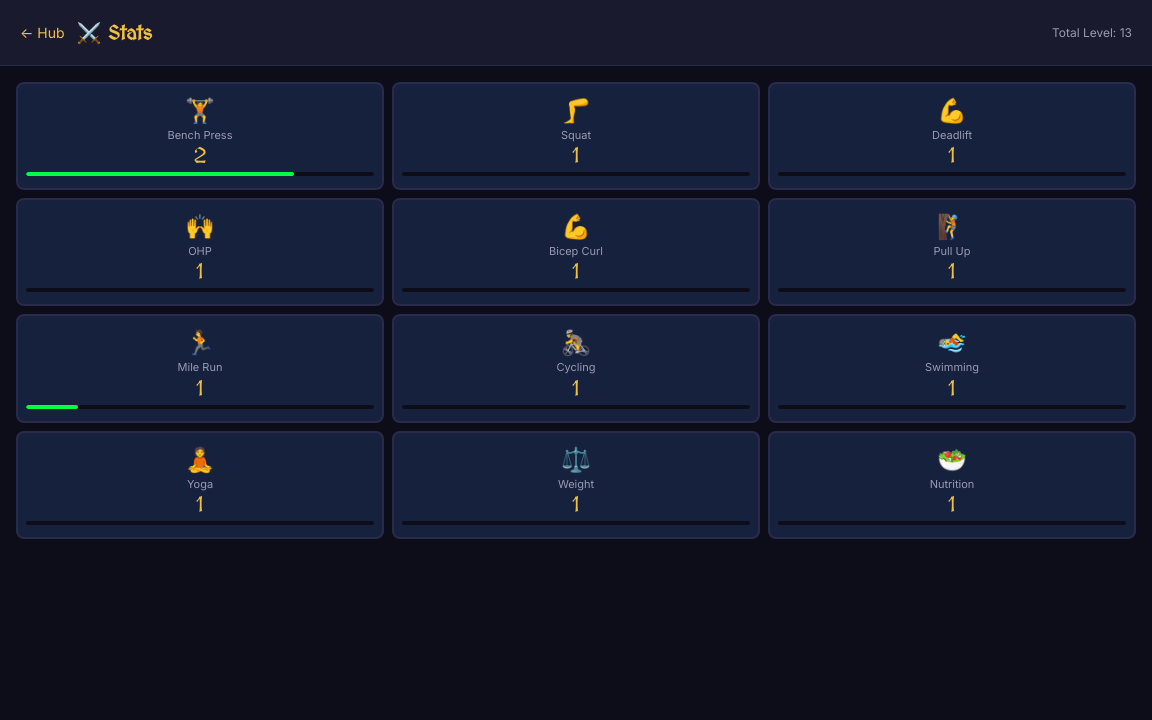
Test: StatsScreen › floors float XP in the detail panel
Click the button with aria-label "Mile Run, level 1": (200, 368) [16,314,384,423]
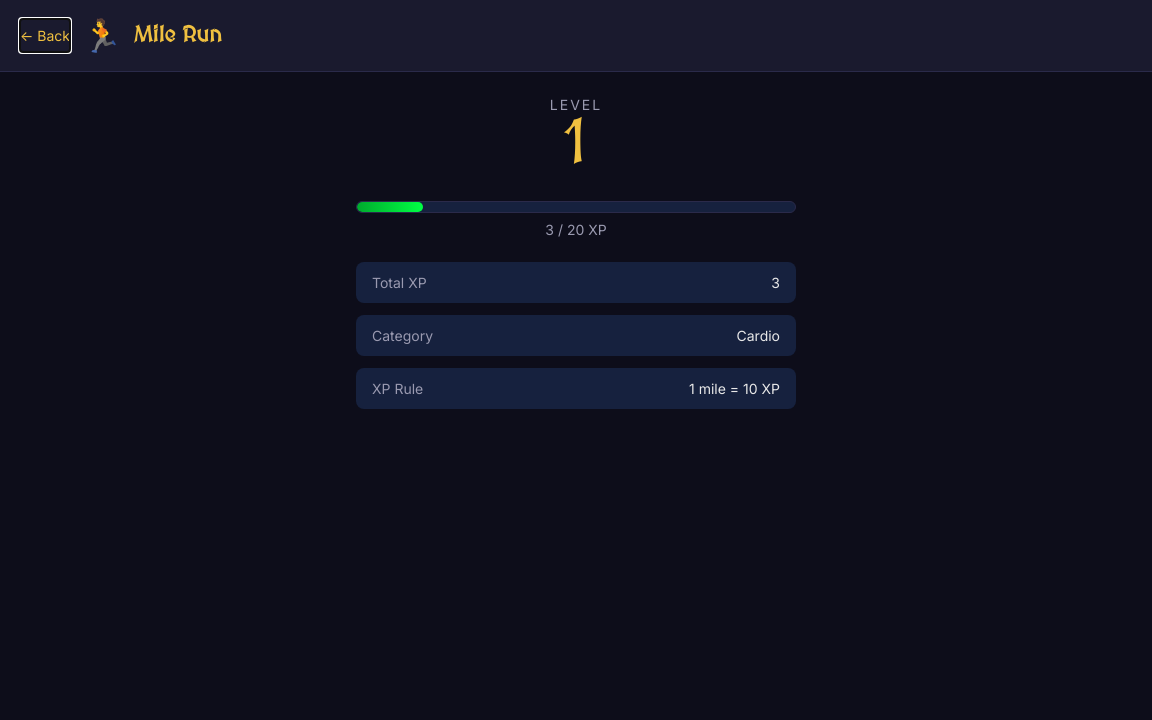
expect the text "3 / 20 XP" is shown: met, box [545,221,607,238]
expect the text "3" is shown: met, box [771,274,780,291]
expect the text "Cardio" is shown: met, box [736,327,780,344]
